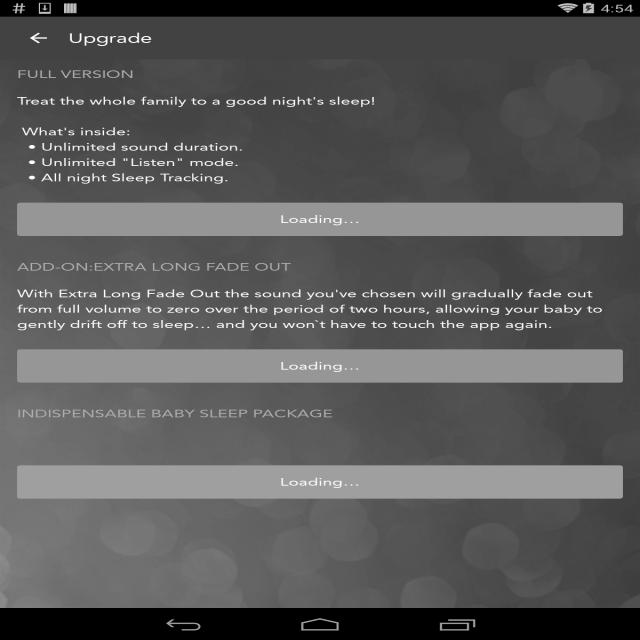Button: (7, 198, 629, 240), (13, 462, 630, 503), (12, 345, 630, 385)
TextView: (14, 287, 610, 335), (18, 122, 244, 185), (14, 407, 333, 420), (12, 68, 146, 84), (66, 30, 161, 48)
